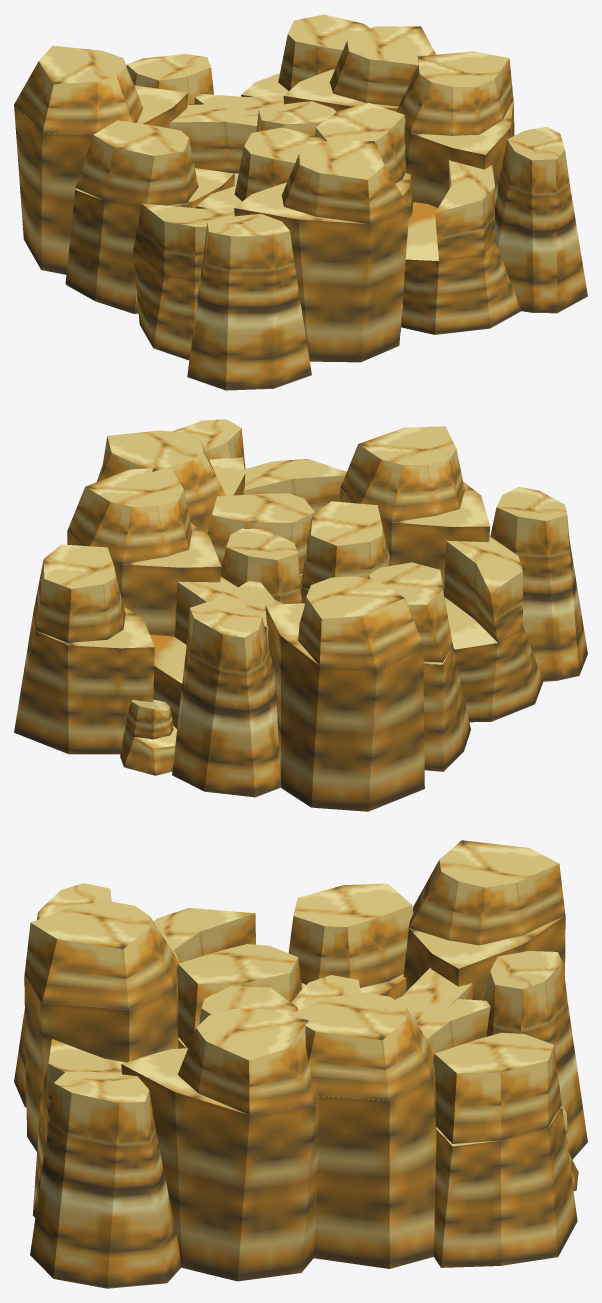
File: Poly_World_Map_Mountain_Canyon_01_Multiple.obj
3 renders of one model, top to bottom at view 1: azimuth 30°, elevation 25°; view 2: azimuth 150°, elevation 25°; view 3: azimuth 270°, elevation 25°, orthographic. The views are drawn at different scales.
Parts seen in each view (by area): view 1: Cube.002_Cube.004; view 2: Cube.002_Cube.004; view 3: Cube.002_Cube.004.
Part boxes in pixels (x1,y1,x2,y2): Cube.002_Cube.004: [14, 14, 587, 390]; Cube.002_Cube.004: [14, 419, 587, 811]; Cube.002_Cube.004: [14, 840, 587, 1288].
Bounding box in the file's own units: 1.81 × 0.7819 × 1.84.
1 material, 1 textured.
